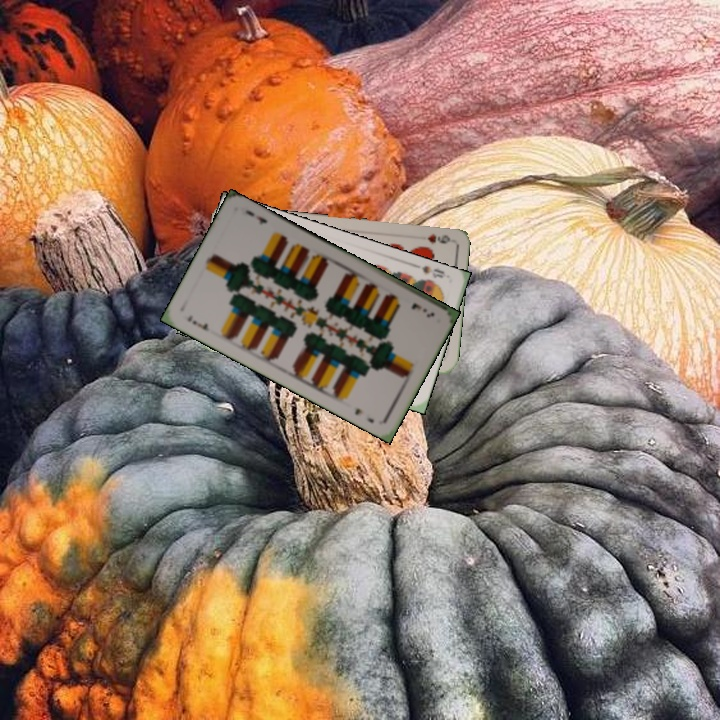E7: (183, 311, 212, 334), (407, 299, 437, 320)
H9: (423, 230, 452, 246)
S8: (418, 261, 447, 281)
